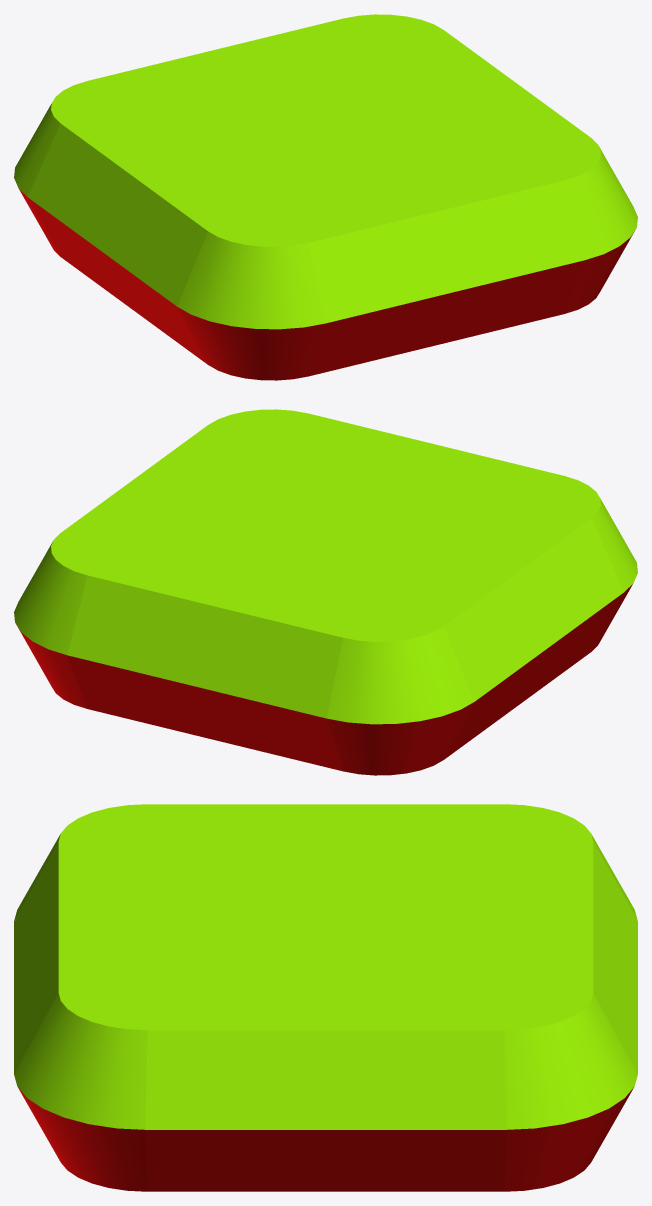
File: AHHH Burger.glb
The picture shows the model from 3 angles, top to bottom: view 1: azimuth 30°, elevation 25°; view 2: azimuth 150°, elevation 25°; view 3: azimuth 270°, elevation 25°; orthographic projection. The views are drawn at different scales.
Visible parts, largest first — view 1: Rectangle1002, Rectangle0002; view 2: Rectangle1002, Rectangle0002; view 3: Rectangle1002, Rectangle0002.
Part boxes in pixels (box(x1,y1,x2,y2)): Rectangle1002: box(14, 14, 637, 329); Rectangle0002: box(19, 189, 634, 380); Rectangle1002: box(14, 409, 637, 724); Rectangle0002: box(17, 584, 632, 775); Rectangle1002: box(14, 804, 637, 1129); Rectangle0002: box(18, 1087, 633, 1191).
Size of the model in its own units: 0.07 by 0.02 by 0.07.
